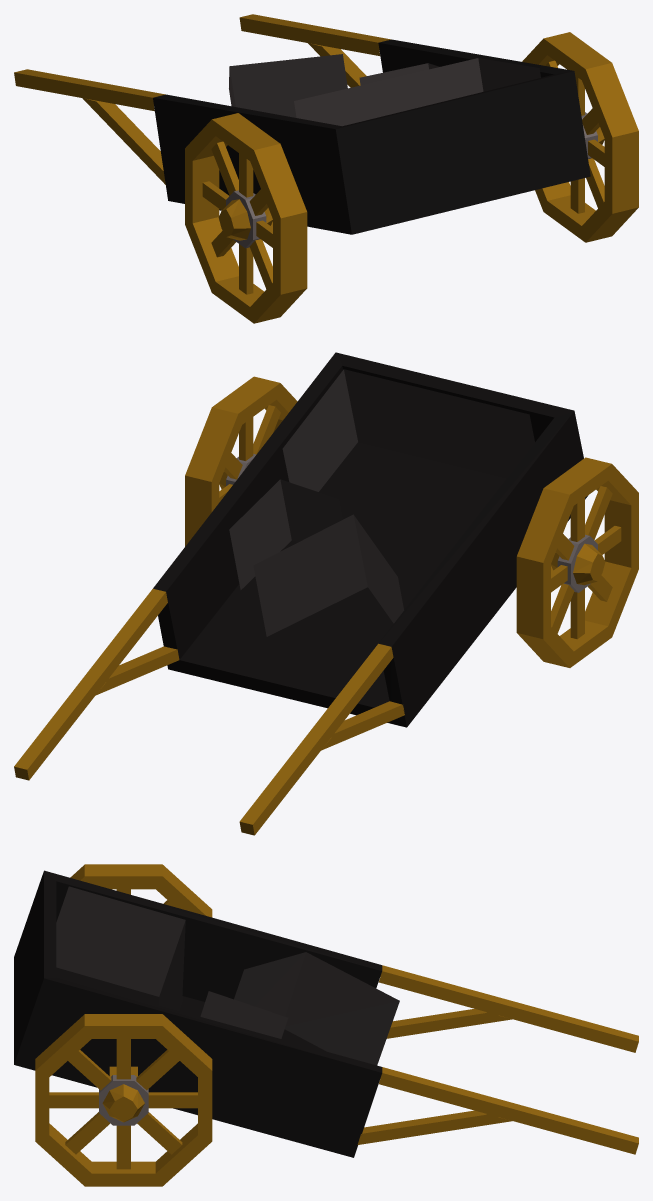
The model's file is obj_cart_2_0.obj.
3 views of the same model, one above another, from view 1: azimuth 30°, elevation 25°; view 2: azimuth 150°, elevation 25°; view 3: azimuth 270°, elevation 25° (orthographic). The views are drawn at different scales.
Size of the model in its own units: 1.75 by 0.8828 by 2.76.
